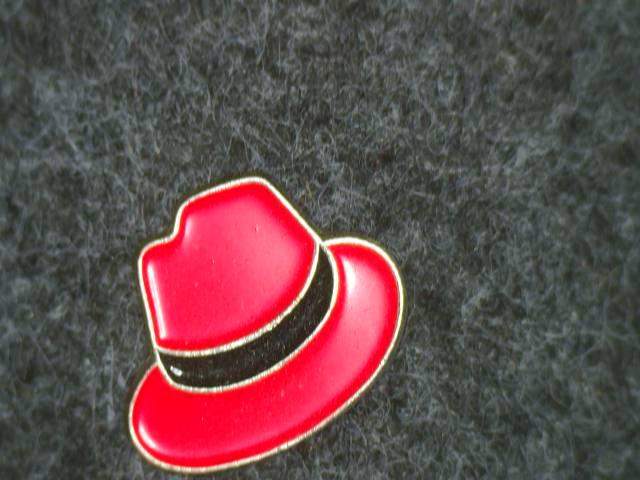Red-Hat: (88, 158, 424, 480)
